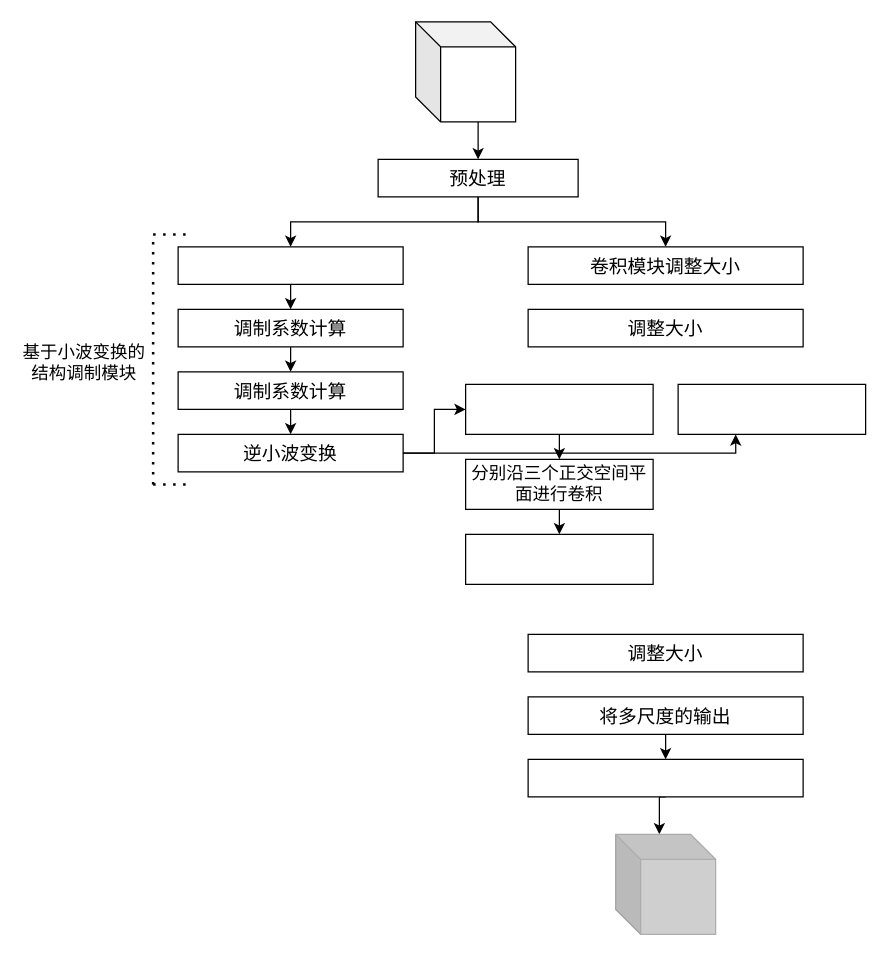
Some shapes in this 888 by 956 pixel diagram are drawn without their labels. Each missing label, with the centre of its shape:
上采样并输出预测的分割掩码: the point at 665,777
全局XX模块: the point at 771,408
图像特征与对应的单轴和跨轴高频特征融合: the point at 558,408
将三组特征拼接并: the point at 558,558
小波变换: the point at 290,265
